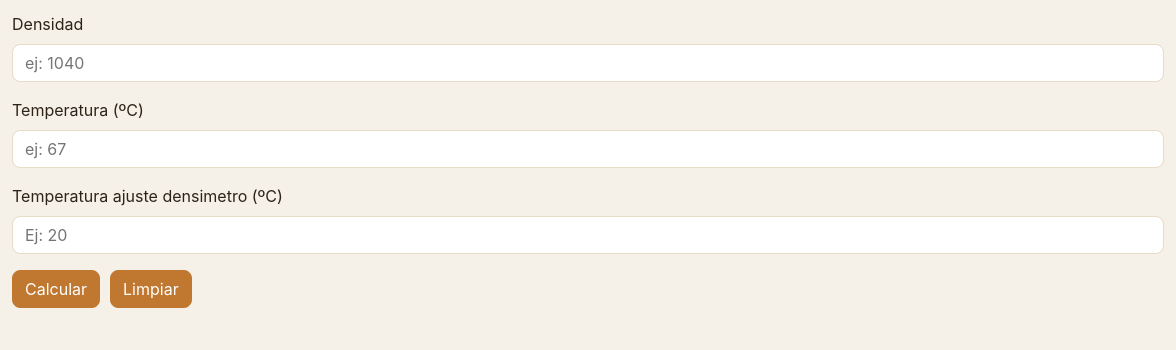
Test: Hydrometer › muestra error si densidad está vacía
The image size is (1176, 350).
Click the button "Calcular". click: click(56, 289)
box: [12,270,100,308]
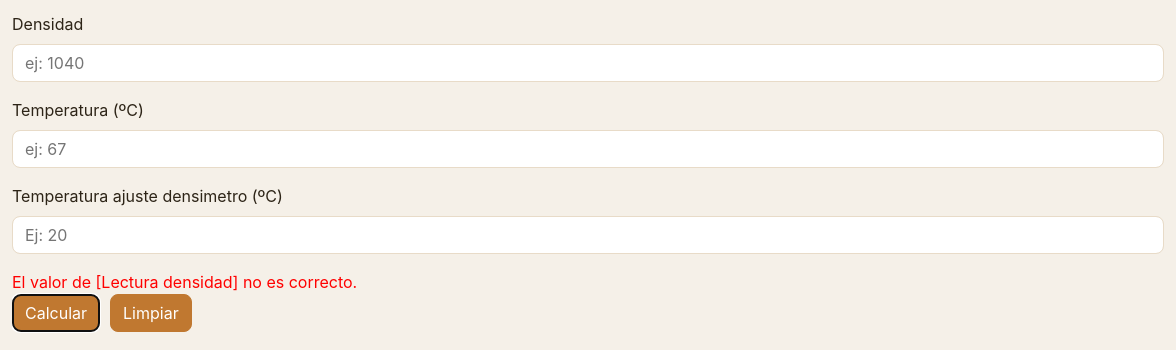
Expected: the message shows "Lectura densidad", [12,272,357,292]
